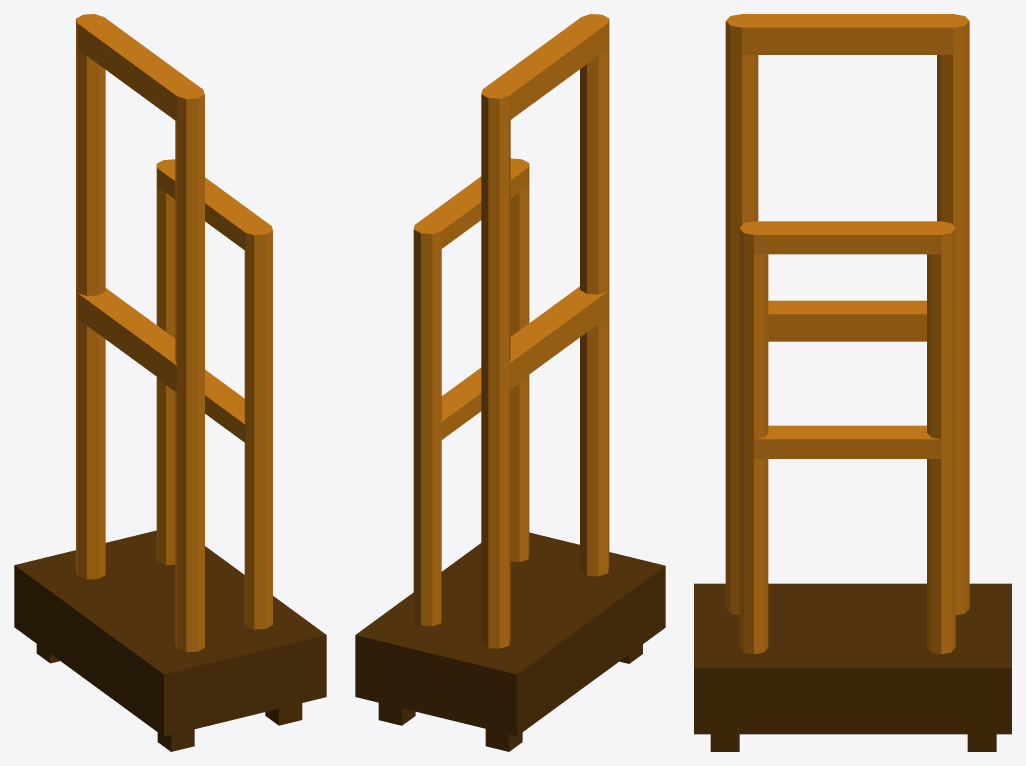
File: CoatHanger.fbx
3 views of the same model, side by side, from view 1: azimuth 30°, elevation 25°; view 2: azimuth 150°, elevation 25°; view 3: azimuth 270°, elevation 25° (orthographic). The views are drawn at different scales.
Visible parts, largest first — view 1: Cylinder; view 2: Cylinder; view 3: Cylinder.
Part boxes in pixels (x1,y1,x2,y2): Cylinder: (14,14,326,751); Cylinder: (355,14,665,751); Cylinder: (694,14,1011,751).
Size of the model in its own units: 31.42 by 118 by 50.02.
